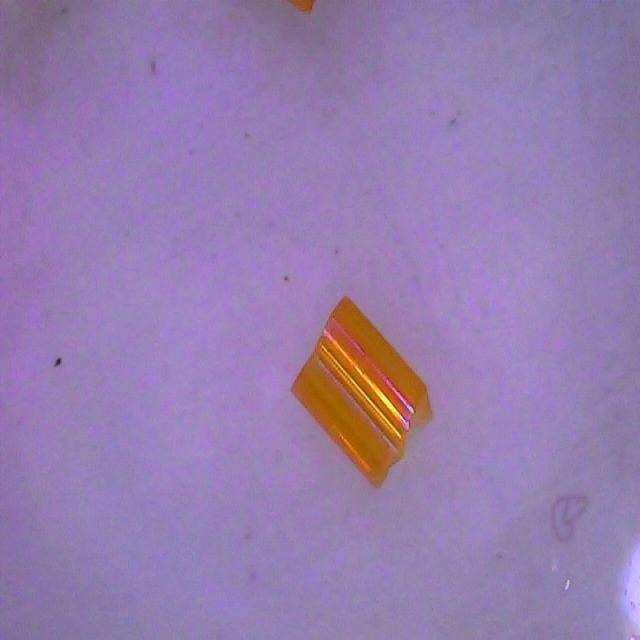fragments: (267, 297, 456, 489)
